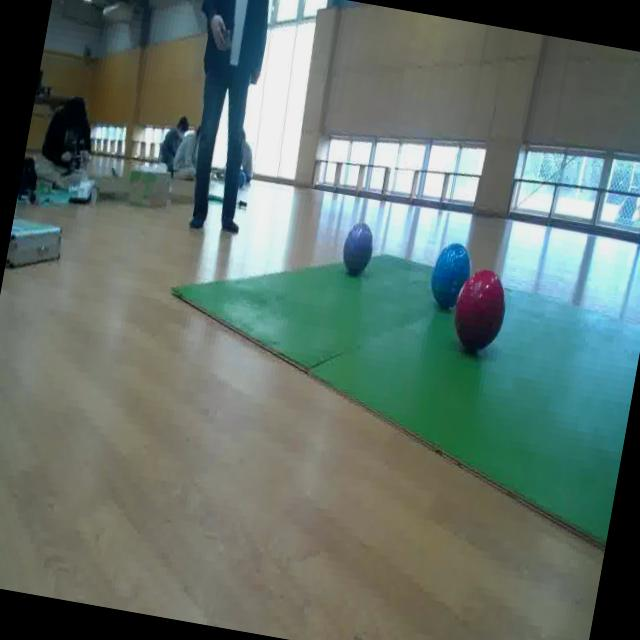blue_ball: (426, 241, 474, 311)
purple_ball: (339, 218, 376, 276)
red_ball: (448, 265, 512, 359)
